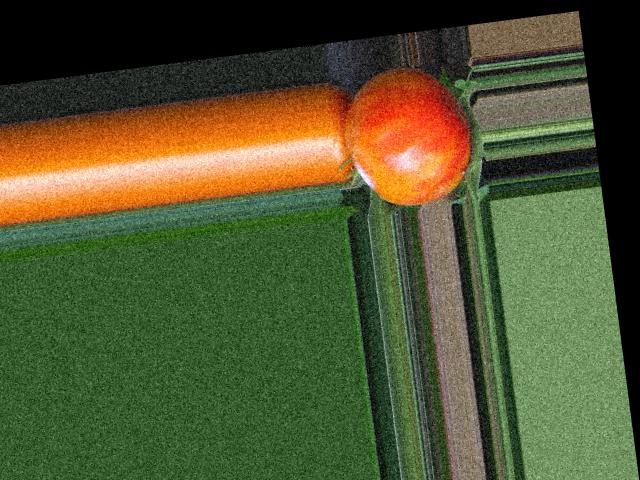tomato: (338, 60, 477, 212)
